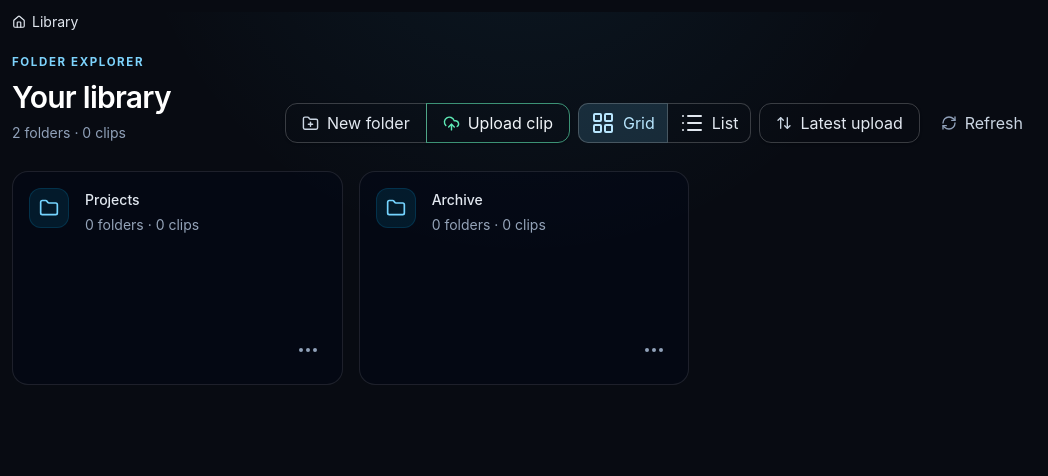
Test: LibraryExplorer request coordination › keeps committed contents inert during navigation and restores them after failure
Click the button with aria-label "Open folder Projects". click: click(49, 208)
box: top-left (13, 172), bottom-right (342, 316)
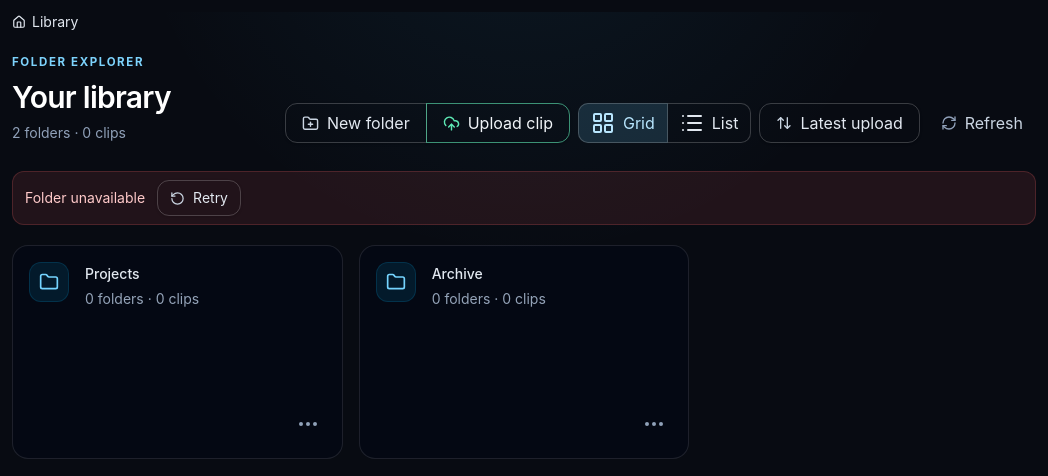
Expected: the element named "Open folder Archive" is shown, top-left (11, 245), bottom-right (689, 459)
Now the message shows "Folder unavailable", box top-left (25, 189), bottom-right (145, 206)
